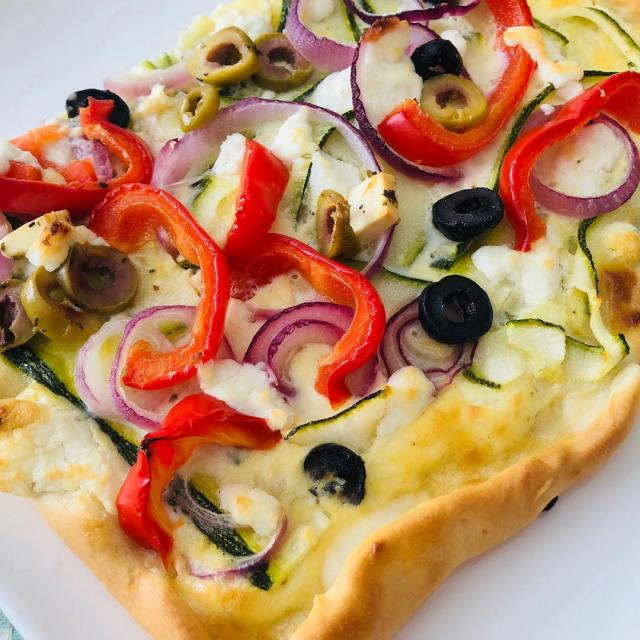black_olives: (419, 272, 495, 348), (430, 181, 508, 245), (300, 438, 368, 507), (61, 90, 132, 131), (411, 33, 462, 84)
green_olives: (11, 241, 139, 344), (187, 29, 311, 88), (416, 74, 488, 127), (311, 186, 353, 256), (176, 81, 222, 139)
pizza: (0, 0, 640, 640)
